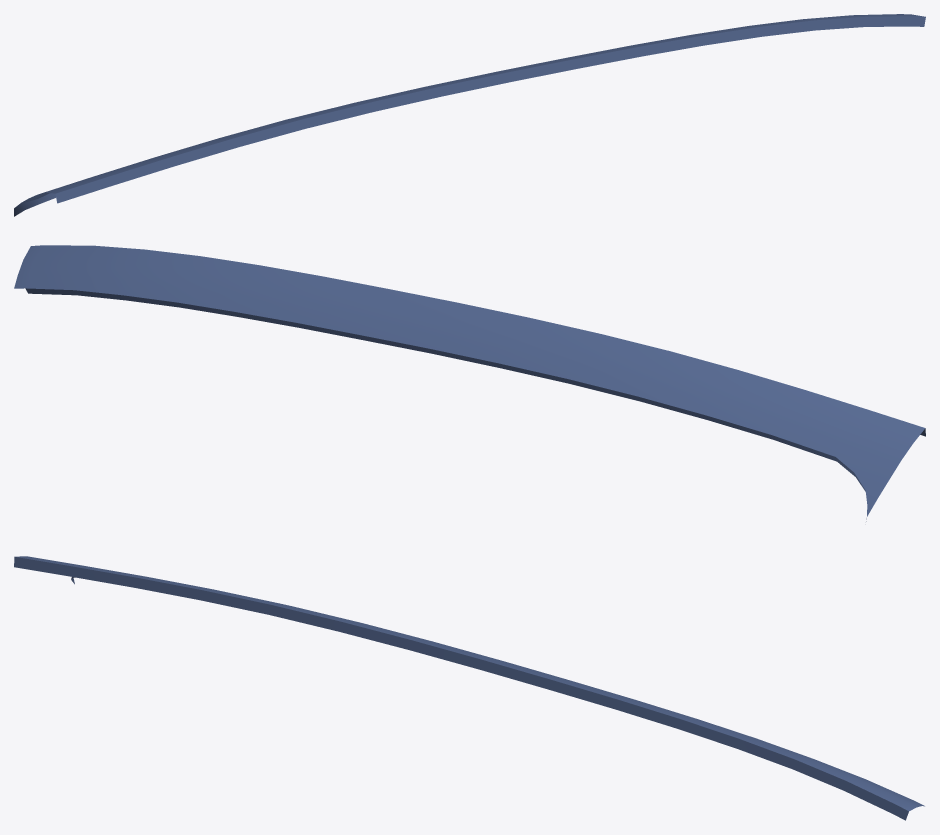
3 views of the same model, one above another, from view 1: azimuth 30°, elevation 25°; view 2: azimuth 150°, elevation 25°; view 3: azimuth 330°, elevation 25° (orthographic). The views are drawn at different scales.
Visible parts, largest first — view 1: U236_17_18A5_L_1_DaS_U236_17_18A5_L_E, U236_17_18A5_L_1_DaS_U236_17_18A5_L; view 2: U236_17_18A5_L_1_DaS_U236_17_18A5_L, U236_17_18A5_L_1_DaS_U236_17_18A5_L_E; view 3: U236_17_18A5_L_1_DaS_U236_17_18A5_L_E, U236_17_18A5_L_1_DaS_U236_17_18A5_L.
Boxes of the visible parts, x1=… form: U236_17_18A5_L_1_DaS_U236_17_18A5_L_E: x1=14, y1=16, x2=925, y2=216; U236_17_18A5_L_1_DaS_U236_17_18A5_L: x1=15, y1=14, x2=923, y2=207; U236_17_18A5_L_1_DaS_U236_17_18A5_L: x1=14, y1=245, x2=925, y2=516; U236_17_18A5_L_1_DaS_U236_17_18A5_L_E: x1=25, y1=288, x2=925, y2=521; U236_17_18A5_L_1_DaS_U236_17_18A5_L_E: x1=14, y1=556, x2=908, y2=820; U236_17_18A5_L_1_DaS_U236_17_18A5_L: x1=15, y1=556, x2=924, y2=811.
Bounding box in the file's own units: 88.87 × 7.48 × 9.12.
